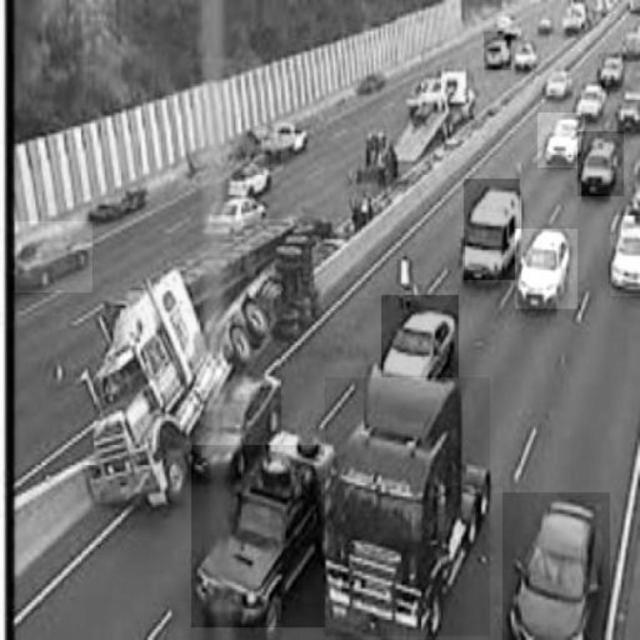accident: (95, 248, 280, 502)
vehicle: (325, 378, 491, 636), (191, 445, 331, 627), (502, 493, 610, 640), (382, 295, 459, 383), (464, 179, 520, 280), (16, 221, 93, 292), (515, 229, 577, 309), (194, 199, 275, 237), (578, 132, 624, 196), (538, 114, 585, 169), (610, 217, 640, 297), (539, 61, 575, 99), (485, 31, 512, 69), (598, 52, 625, 87)
